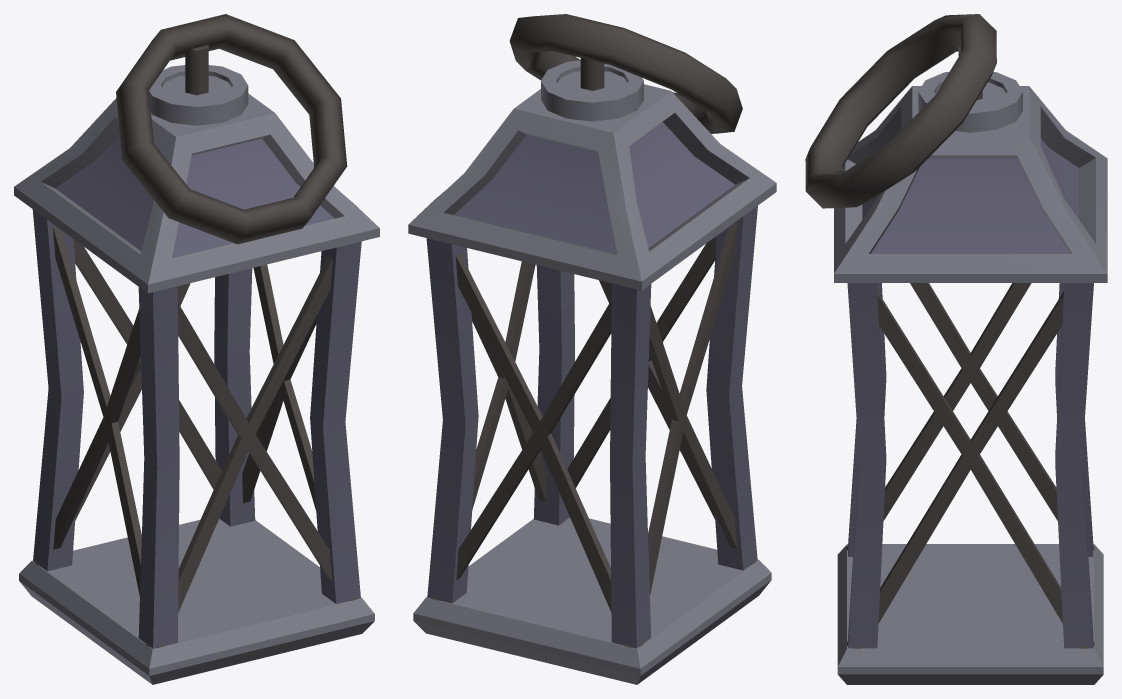
File: P_Lantern_01_LD.fbx
3 views of the same model, side by side, from view 1: azimuth 30°, elevation 25°; view 2: azimuth 150°, elevation 25°; view 3: azimuth 270°, elevation 25° (orthographic). The views are drawn at different scales.
Visible parts, largest first — view 1: P_Lantern_01; view 2: P_Lantern_01; view 3: P_Lantern_01.
Part boxes in pixels (x1=…): P_Lantern_01: x1=14, y1=14, x2=379, y2=684; P_Lantern_01: x1=408, y1=14, x2=776, y2=684; P_Lantern_01: x1=805, y1=14, x2=1107, y2=684.
Size of the model in its own units: 18.04 by 43.87 by 19.92.
1 material, 1 textured.
